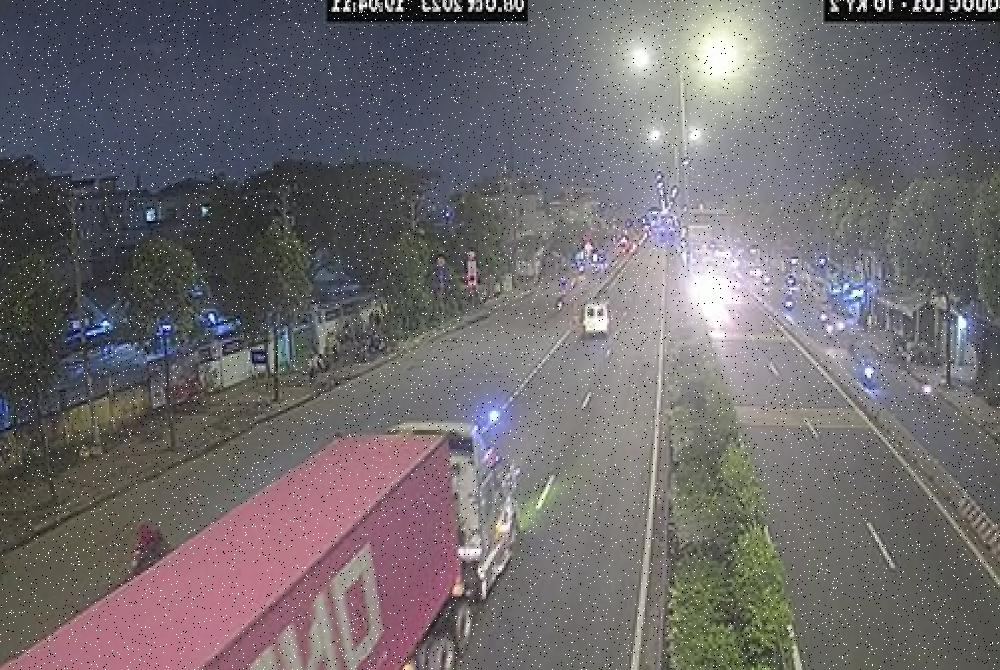truck: (0, 420, 518, 670)
